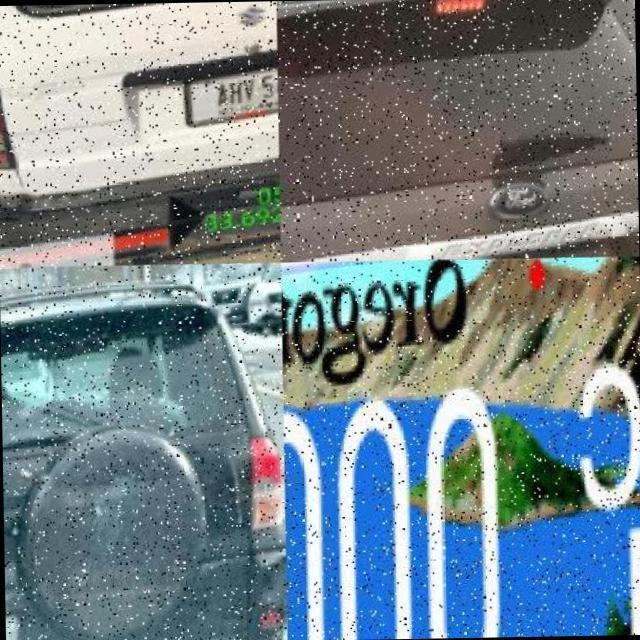License Plate: (282, 362, 554, 640), (194, 58, 278, 130)
